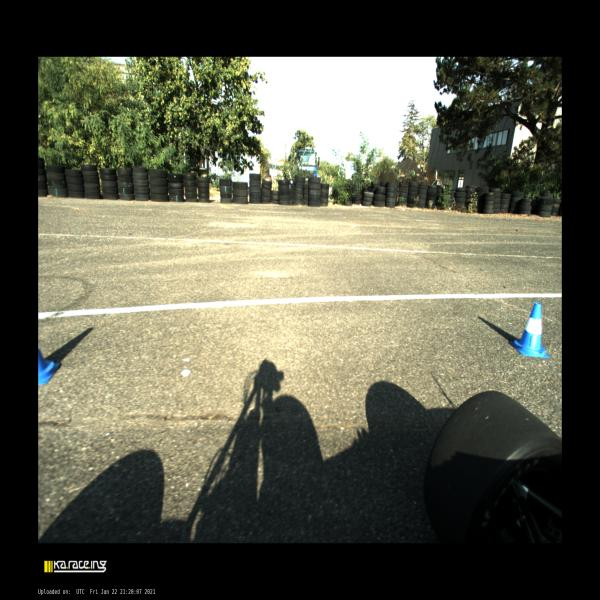blue_cone: (510, 302, 550, 358)
